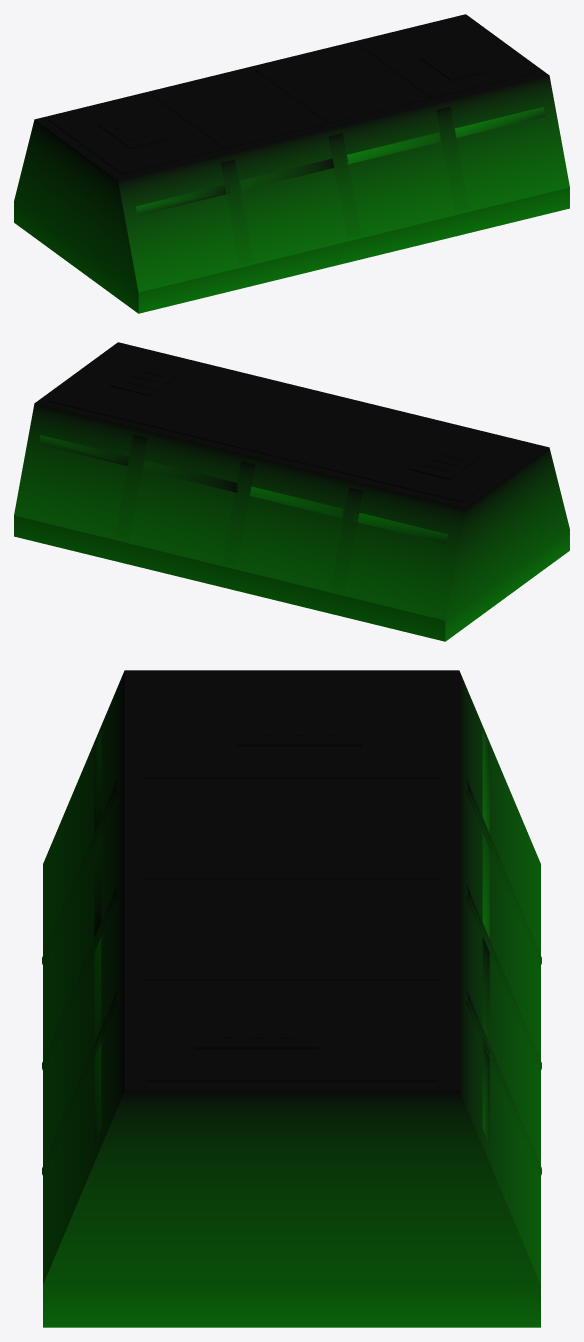
File: hpg_walkway.glb
The picture shows the model from 3 angles, top to bottom: view 1: azimuth 30°, elevation 25°; view 2: azimuth 150°, elevation 25°; view 3: azimuth 270°, elevation 25°; orthographic projection. The views are drawn at different scales.
Parts seen in each view (by area): view 1: lod0; view 2: lod0; view 3: lod0.
Boxes of the visible parts, <box> form: lod0: <box>14,14,569,313</box>; lod0: <box>14,342,569,641</box>; lod0: <box>42,670,541,1327</box>.
Size of what is drawn, in the model's own units: 25.6 by 6.88 by 12.84.
